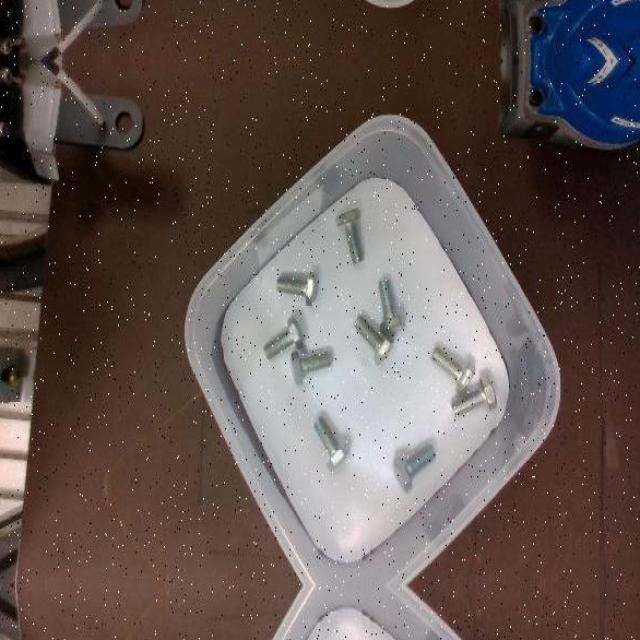screw: (430, 345, 474, 395), (393, 442, 436, 492), (312, 415, 350, 470), (451, 374, 497, 416), (353, 315, 392, 364), (262, 317, 304, 360), (335, 208, 364, 264), (377, 278, 405, 334), (276, 273, 317, 308), (290, 352, 331, 386)
